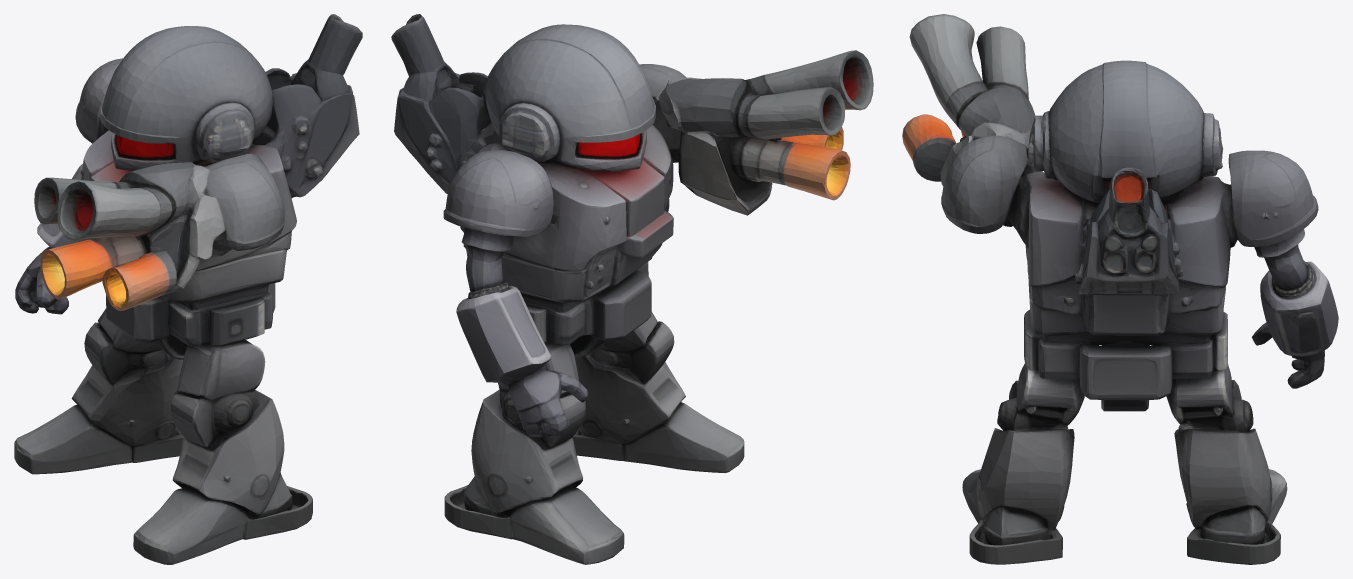
Rendered from swatbot-trellis.glb.
3 renders of one model, left to right at view 1: azimuth 30°, elevation 25°; view 2: azimuth 150°, elevation 25°; view 3: azimuth 270°, elevation 25°, orthographic. The views are drawn at different scales.
Visible parts, largest first — view 1: world; view 2: world; view 3: world.
Boxes of the visible parts, x1=… form: world: x1=14, y1=14, x2=362, y2=564; world: x1=391, y1=14, x2=873, y2=564; world: x1=902, y1=14, x2=1338, y2=564.
Bounding box in the file's own units: 0.8741 × 0.9999 × 0.8412.
1 material, 1 textured.
